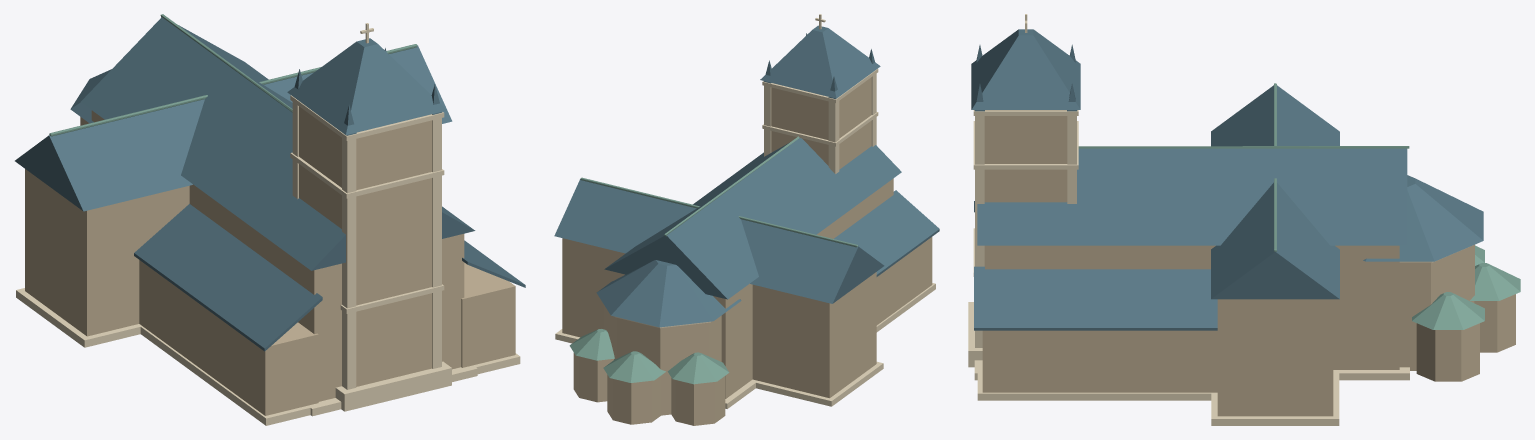
The model's file is church-lod3.glb.
3 renders of one model, left to right at view 1: azimuth 30°, elevation 25°; view 2: azimuth 150°, elevation 25°; view 3: azimuth 270°, elevation 25°, orthographic. The views are drawn at different scales.
Parts seen in each view (by area): view 1: Church_LOD3; view 2: Church_LOD3; view 3: Church_LOD3.
Boxes of the visible parts, bbox=[...] form: Church_LOD3: bbox=[15, 14, 525, 425]; Church_LOD3: bbox=[554, 14, 939, 425]; Church_LOD3: bbox=[968, 14, 1520, 425].
Bounding box in the file's own units: 19.1 × 17.43 × 26.59.
